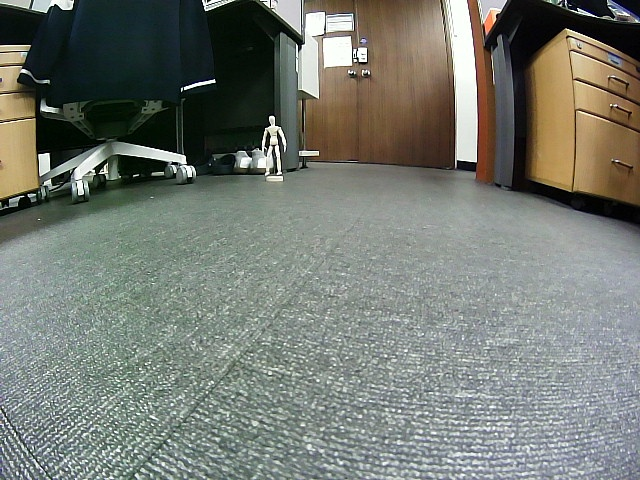person: (260, 116, 286, 177)
